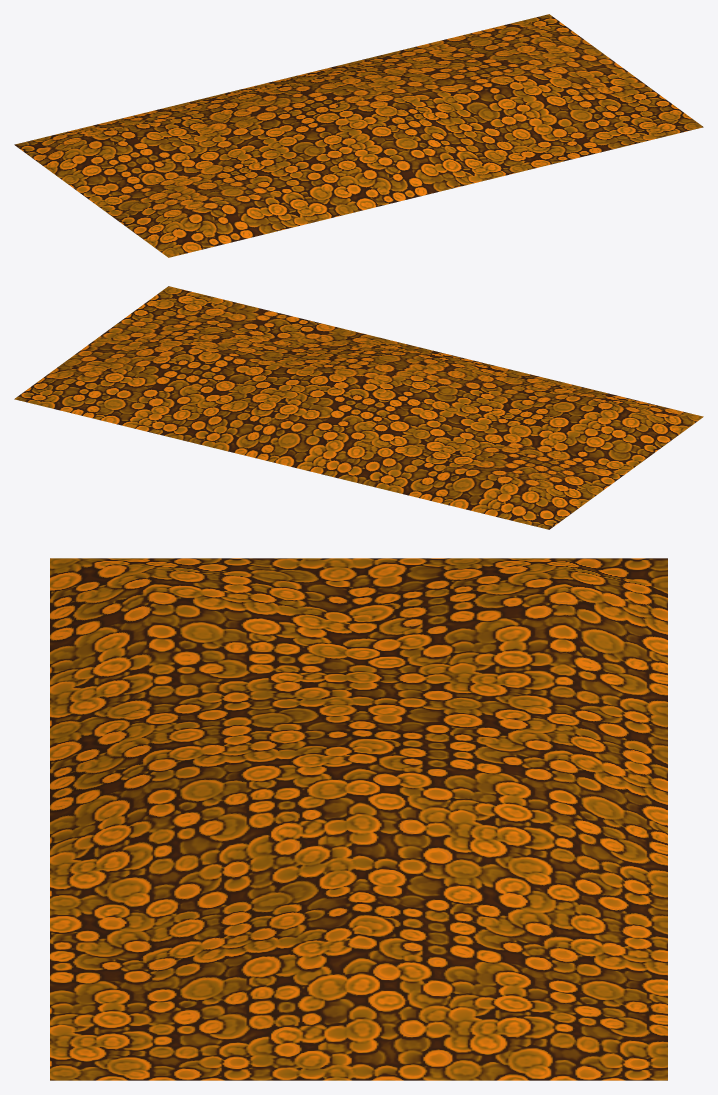
File: SkullCoins001.fbx
3 views of the same model, one above another, from view 1: azimuth 30°, elevation 25°; view 2: azimuth 150°, elevation 25°; view 3: azimuth 270°, elevation 25° (orthographic). The views are drawn at different scales.
Parts seen in each view (by area): view 1: SkullCoins; view 2: SkullCoins; view 3: SkullCoins.
Part boxes in pixels (x1=…): SkullCoins: x1=14, y1=14, x2=703, y2=257; SkullCoins: x1=14, y1=286, x2=703, y2=529; SkullCoins: x1=50, y1=558, x2=667, y2=1080.
Size of the model in its own units: 100 by 4.65 by 50.
